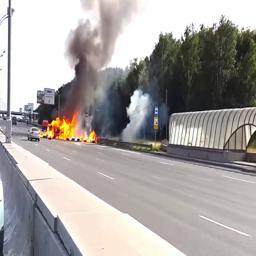fire: (42, 113, 97, 143)
